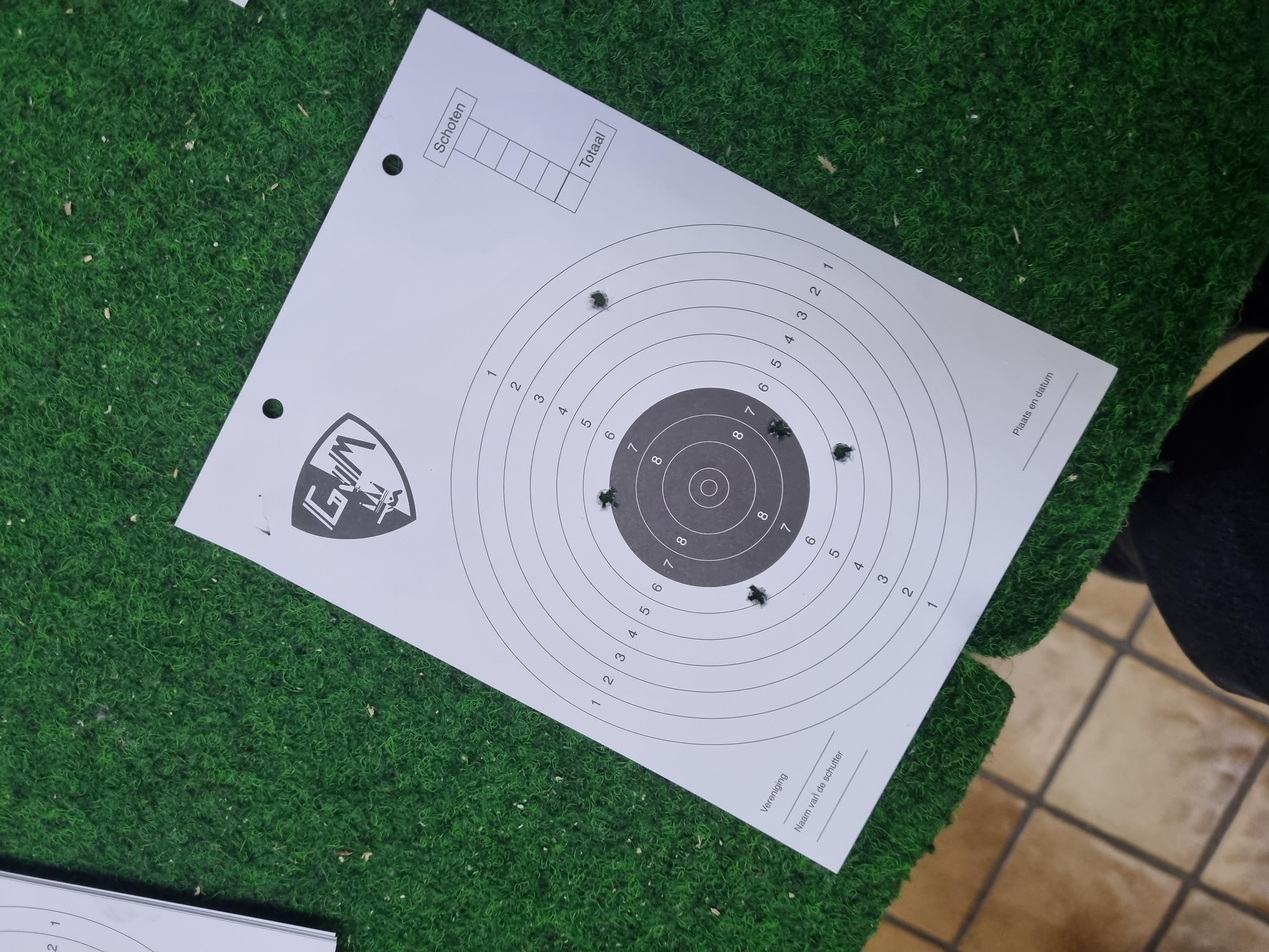hole: (457, 559, 491, 578), (682, 575, 712, 596), (588, 447, 620, 465), (650, 623, 679, 642), (852, 442, 882, 458)
